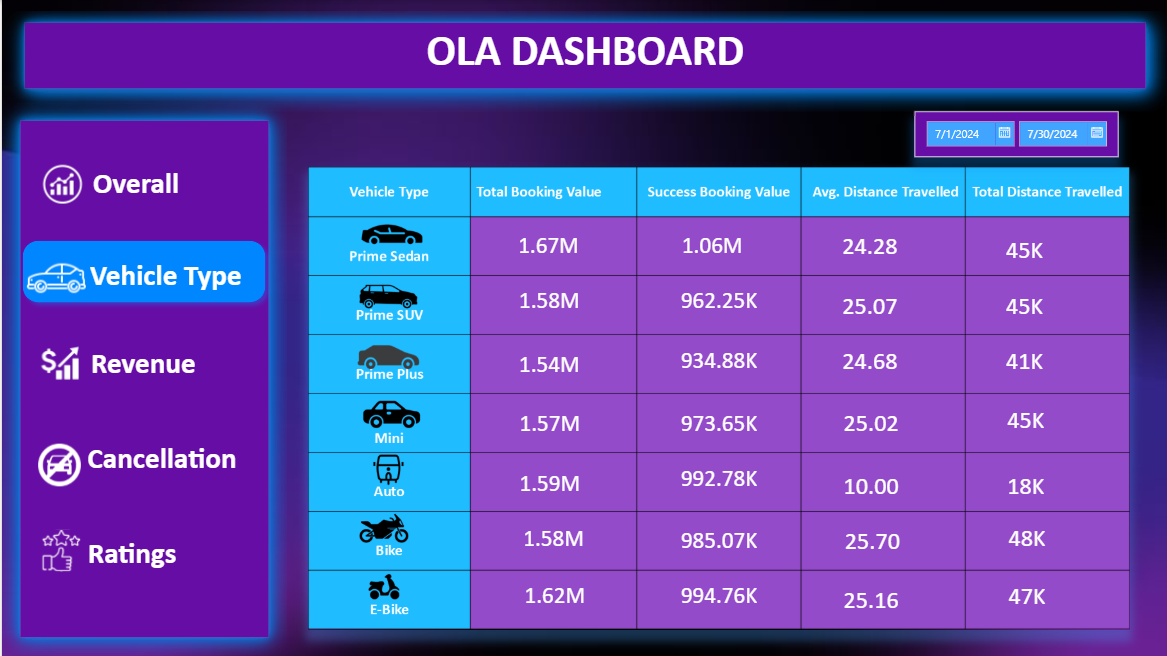

Layout of this report page (visuals, bound fields, positions):
{"tool":"powerbi","page":{"name":"Vehicle Type","canvas":[1280,720],"ordinal":1},"visuals":[{"type":"shape","box":[-0.6,0,1280.6,122.2],"z":0},{"type":"textbox","box":[0,20.8,1280.6,80.6],"z":1000},{"type":"shape","box":[0,112.9,312.9,607.1],"z":2000},{"type":"textbox","box":[35.7,582.9,214.3,74.3],"z":3000},{"type":"textbox","box":[48.6,374.3,214.3,74.3],"z":4000},{"type":"textbox","box":[72.9,478.6,205.7,74.3],"z":5000},{"type":"shape","box":[14.3,255.7,284.3,85.7],"z":6000},{"type":"textbox","box":[13.9,176.4,266.7,80.6],"z":7000},{"type":"textbox","box":[72.9,277.1,214.3,82.9],"z":8000},{"type":"actionButton","box":[50,165.3,197.2,65.3],"z":9000},{"type":"actionButton","box":[48.6,373.6,197.2,65.3],"z":10000},{"type":"actionButton","box":[48.6,479.2,197.2,65.3],"z":11000},{"type":"actionButton","box":[57.1,587.1,197.1,65.7],"z":12000},{"type":"actionButton","box":[27.4,164.7,82.3,78.2],"z":13000},{"type":"actionButton","box":[27.4,359.5,74.1,78.2],"z":14000},{"type":"actionButton","box":[23.3,269,74.1,72.7],"z":15000},{"type":"actionButton","box":[35.7,483,59,54.9],"z":16000},{"type":"actionButton","box":[38.4,577.7,67.2,53.5],"z":17000},{"type":"image","box":[336.2,182.5,901.5,509.1],"z":18000},{"type":"cardVisual","fields":{"Data":["Sum(ola bookings.Booking_Value)"]},"box":[532.4,238.8,135.8,60.4],"z":19000},{"type":"cardVisual","fields":{"Data":["Avg(ola bookings.Ride_Distance)"]},"box":[893.3,238.8,135.8,60.4],"z":20000},{"type":"cardVisual","fields":{"Data":["Sum(ola bookings.Booking_Value)"]},"box":[712.2,623,150.9,60.4],"z":21000},{"type":"cardVisual","fields":{"Data":["Sum(ola bookings.Booking_Value)"]},"box":[712.2,562.6,150.9,60.4],"z":22000},{"type":"cardVisual","fields":{"Data":["Sum(ola bookings.Booking_Value)"]},"box":[712.2,494,150.9,60.4],"z":23000},{"type":"cardVisual","fields":{"Data":["Sum(ola bookings.Booking_Value)"]},"box":[712.2,433.6,150.9,60.4],"z":24000},{"type":"cardVisual","fields":{"Data":["Sum(ola bookings.Booking_Value)"]},"box":[712.2,365,150.9,60.4],"z":25000},{"type":"cardVisual","fields":{"Data":["Sum(ola bookings.Booking_Value)"]},"box":[712.2,300.5,150.9,56.3],"z":26000},{"type":"cardVisual","fields":{"Data":["Sum(ola bookings.Booking_Value)"]},"box":[712.2,238.8,135.8,60.4],"z":27000},{"type":"cardVisual","fields":{"Data":["Sum(ola bookings.Booking_Value)"]},"box":[521.4,299.1,159.2,60.4],"z":28000},{"type":"cardVisual","fields":{"Data":["Sum(ola bookings.Booking_Value)"]},"box":[521.4,369.1,159.2,60.4],"z":29000},{"type":"cardVisual","fields":{"Data":["Sum(ola bookings.Booking_Value)"]},"box":[526.9,433.6,149.6,60.4],"z":30000},{"type":"cardVisual","fields":{"Data":["Sum(ola bookings.Booking_Value)"]},"box":[526.9,499.5,149.6,60.4],"z":31000},{"type":"cardVisual","fields":{"Data":["Sum(ola bookings.Booking_Value)"]},"box":[531,559.9,149.6,60.4],"z":32000},{"type":"cardVisual","fields":{"Data":["Sum(ola bookings.Booking_Value)"]},"box":[532.4,623,149.6,60.4],"z":33000},{"type":"cardVisual","fields":{"Data":["Avg(ola bookings.Ride_Distance)"]},"box":[893.3,304.6,135.8,60.4],"z":34000},{"type":"cardVisual","fields":{"Data":["Avg(ola bookings.Ride_Distance)"]},"box":[893.3,365,135.8,60.4],"z":35000},{"type":"cardVisual","fields":{"Data":["Avg(ola bookings.Ride_Distance)"]},"box":[894.7,502.2,135.8,60.4],"z":36000},{"type":"cardVisual","fields":{"Data":["Avg(ola bookings.Ride_Distance)"]},"box":[896.1,562.6,135.8,60.4],"z":37000},{"type":"cardVisual","fields":{"Data":["Avg(ola bookings.Ride_Distance)"]},"box":[894.7,627.1,135.8,60.4],"z":38000},{"type":"cardVisual","fields":{"Data":["Avg(ola bookings.Ride_Distance)"]},"box":[894.7,433.6,135.8,60.4],"z":39000},{"type":"cardVisual","fields":{"Data":["Sum(ola bookings.Ride_Distance)"]},"box":[1073.1,242.9,135.8,60.4],"z":40000},{"type":"cardVisual","fields":{"Data":["Sum(ola bookings.Ride_Distance)"]},"box":[1073.1,304.6,135.8,60.4],"z":41000},{"type":"cardVisual","fields":{"Data":["Sum(ola bookings.Ride_Distance)"]},"box":[1073.1,365,135.8,60.4],"z":42000},{"type":"cardVisual","fields":{"Data":["Sum(ola bookings.Ride_Distance)"]},"box":[1074.4,429.5,135.8,60.4],"z":43000},{"type":"cardVisual","fields":{"Data":["Sum(ola bookings.Ride_Distance)"]},"box":[1074.4,502.2,135.8,60.4],"z":44000},{"type":"cardVisual","fields":{"Data":["Sum(ola bookings.Ride_Distance)"]},"box":[1075.8,559.9,135.8,60.4],"z":45000},{"type":"cardVisual","fields":{"Data":["Sum(ola bookings.Ride_Distance)"]},"box":[1075.8,623,135.8,60.4],"z":46000},{"type":"slicer","title":"Date","fields":{"Values":["ola bookings.Date"]},"box":[1001.7,122.1,223.7,50.8],"z":47000}]}

Visuals, with their boxes in screenshot pixels (x1, y1, x2, y2), scaled from the page's 1280x720 canvas onto the 1167x656 screenshot:
shape: left=0, top=0, right=1166, bottom=111
textbox: left=0, top=19, right=1166, bottom=92
shape: left=0, top=103, right=285, bottom=655
textbox: left=33, top=531, right=228, bottom=599
textbox: left=44, top=341, right=240, bottom=409
textbox: left=66, top=436, right=254, bottom=504
shape: left=13, top=233, right=272, bottom=311
textbox: left=13, top=161, right=256, bottom=234
textbox: left=66, top=252, right=262, bottom=328
actionButton: left=46, top=151, right=225, bottom=210
actionButton: left=44, top=340, right=224, bottom=400
actionButton: left=44, top=437, right=224, bottom=496
actionButton: left=52, top=535, right=232, bottom=595
actionButton: left=25, top=150, right=100, bottom=221
actionButton: left=25, top=328, right=93, bottom=399
actionButton: left=21, top=245, right=89, bottom=311
actionButton: left=33, top=440, right=86, bottom=490
actionButton: left=35, top=526, right=96, bottom=575
image: left=307, top=166, right=1128, bottom=630
cardVisual - Sum(ola bookings.Booking_Value): left=485, top=218, right=609, bottom=273
cardVisual - Avg(ola bookings.Ride_Distance): left=814, top=218, right=938, bottom=273
cardVisual - Sum(ola bookings.Booking_Value): left=649, top=568, right=787, bottom=623
cardVisual - Sum(ola bookings.Booking_Value): left=649, top=513, right=787, bottom=568
cardVisual - Sum(ola bookings.Booking_Value): left=649, top=450, right=787, bottom=505
cardVisual - Sum(ola bookings.Booking_Value): left=649, top=395, right=787, bottom=450
cardVisual - Sum(ola bookings.Booking_Value): left=649, top=333, right=787, bottom=388
cardVisual - Sum(ola bookings.Booking_Value): left=649, top=274, right=787, bottom=325
cardVisual - Sum(ola bookings.Booking_Value): left=649, top=218, right=773, bottom=273
cardVisual - Sum(ola bookings.Booking_Value): left=475, top=273, right=621, bottom=328
cardVisual - Sum(ola bookings.Booking_Value): left=475, top=336, right=621, bottom=391
cardVisual - Sum(ola bookings.Booking_Value): left=480, top=395, right=617, bottom=450
cardVisual - Sum(ola bookings.Booking_Value): left=480, top=455, right=617, bottom=510
cardVisual - Sum(ola bookings.Booking_Value): left=484, top=510, right=621, bottom=565
cardVisual - Sum(ola bookings.Booking_Value): left=485, top=568, right=622, bottom=623
cardVisual - Avg(ola bookings.Ride_Distance): left=814, top=278, right=938, bottom=333
cardVisual - Avg(ola bookings.Ride_Distance): left=814, top=333, right=938, bottom=388
cardVisual - Avg(ola bookings.Ride_Distance): left=816, top=458, right=940, bottom=513
cardVisual - Avg(ola bookings.Ride_Distance): left=817, top=513, right=941, bottom=568
cardVisual - Avg(ola bookings.Ride_Distance): left=816, top=571, right=940, bottom=626
cardVisual - Avg(ola bookings.Ride_Distance): left=816, top=395, right=940, bottom=450
cardVisual - Sum(ola bookings.Ride_Distance): left=978, top=221, right=1102, bottom=276
cardVisual - Sum(ola bookings.Ride_Distance): left=978, top=278, right=1102, bottom=333
cardVisual - Sum(ola bookings.Ride_Distance): left=978, top=333, right=1102, bottom=388
cardVisual - Sum(ola bookings.Ride_Distance): left=980, top=391, right=1103, bottom=446
cardVisual - Sum(ola bookings.Ride_Distance): left=980, top=458, right=1103, bottom=513
cardVisual - Sum(ola bookings.Ride_Distance): left=981, top=510, right=1105, bottom=565
cardVisual - Sum(ola bookings.Ride_Distance): left=981, top=568, right=1105, bottom=623
"Date" slicer: left=913, top=111, right=1117, bottom=158
